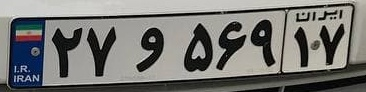character: (126, 23, 169, 76), (174, 20, 216, 74), (48, 23, 85, 80), (85, 24, 121, 79), (214, 17, 249, 72), (248, 17, 278, 70), (314, 23, 348, 69), (290, 24, 313, 68)
